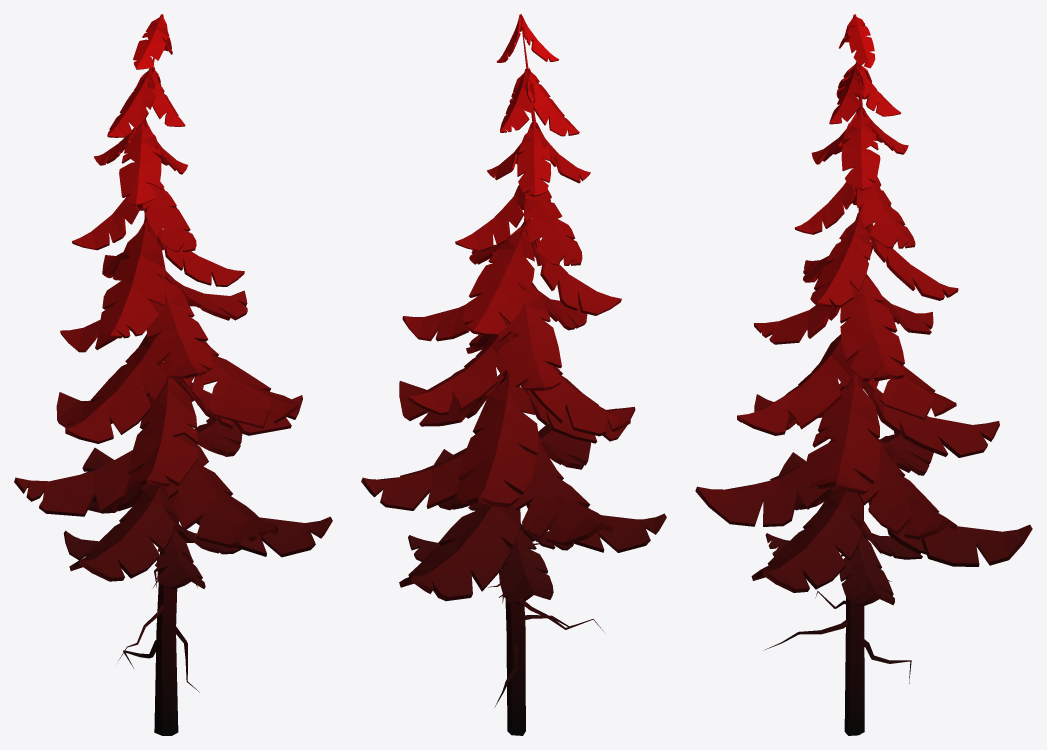
The model's file is TreeSpruce02.fbx.
3 renders of one model, left to right at view 1: azimuth 30°, elevation 25°; view 2: azimuth 150°, elevation 25°; view 3: azimuth 270°, elevation 25°, orthographic.
Visible parts, largest first — view 1: TreeSpruce02_LOD0; view 2: TreeSpruce02_LOD0; view 3: TreeSpruce02_LOD0.
Part boxes in pixels (left/top/right/bottom): TreeSpruce02_LOD0: left=14, top=14, right=332, bottom=735; TreeSpruce02_LOD0: left=361, top=14, right=666, bottom=735; TreeSpruce02_LOD0: left=695, top=14, right=1032, bottom=735.
Size of what is drawn, in the model's own units: 104 by 288 by 123.
